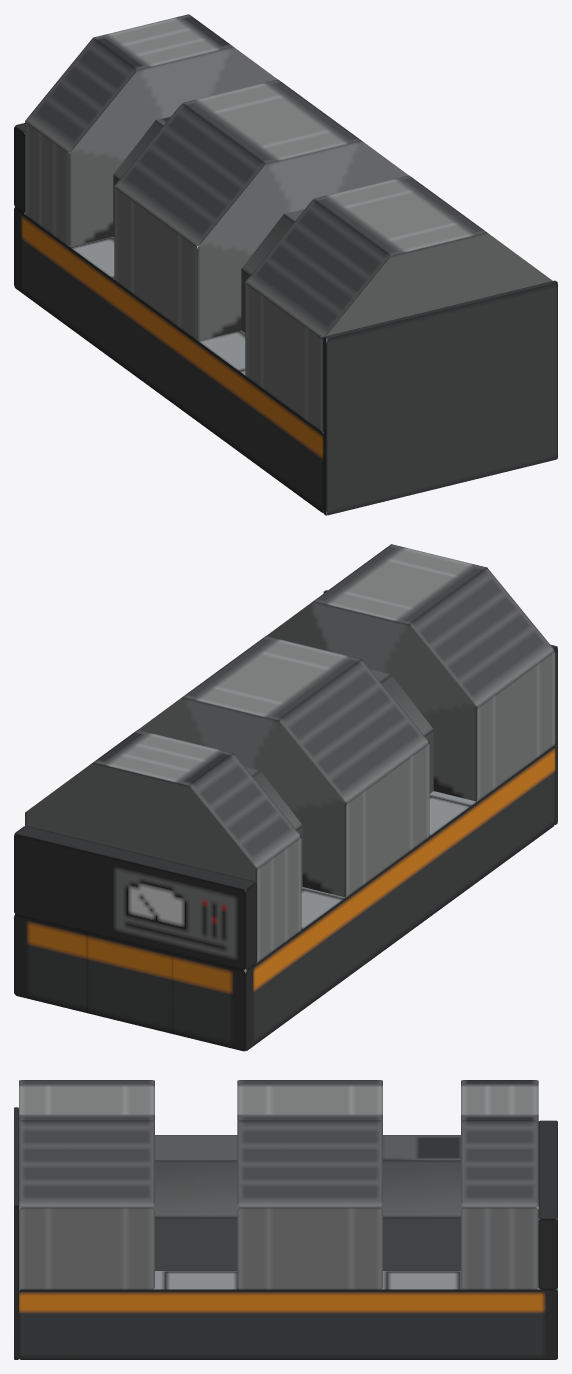
Rendered from turbine.obj.
3 renders of one model, top to bottom at view 1: azimuth 30°, elevation 25°; view 2: azimuth 150°, elevation 25°; view 3: azimuth 270°, elevation 25°, orthographic. The views are drawn at different scales.
Visible parts, largest first — view 1: 14, 8, 7, 3, 5, 9, 13, 6; view 2: 8, 7, 3, 5, 13, 1, 2, 9, 6; view 3: 2, 8, 7, 5, 9, 6, 13, 14.
Part boxes in pixels (bbox=[...]): 14: bbox=[323, 280, 557, 515]; 8: bbox=[114, 79, 408, 340]; 7: bbox=[245, 175, 552, 432]; 3: bbox=[14, 207, 326, 512]; 5: bbox=[25, 14, 277, 246]; 9: bbox=[241, 209, 392, 340]; 13: bbox=[14, 123, 24, 213]; 6: bbox=[113, 116, 266, 248]; 8: bbox=[138, 636, 429, 897]; 7: bbox=[266, 544, 555, 801]; 3: bbox=[168, 745, 555, 1051]; 5: bbox=[25, 730, 301, 971]; 13: bbox=[14, 826, 256, 970]; 1: bbox=[86, 933, 246, 1033]; 2: bbox=[14, 914, 90, 1013]; 9: bbox=[277, 669, 433, 805]; 6: bbox=[245, 767, 302, 887]; 2: bbox=[19, 1271, 557, 1359]; 8: bbox=[237, 1080, 382, 1289]; 7: bbox=[19, 1080, 154, 1290]; 5: bbox=[461, 1080, 538, 1289]; 9: bbox=[153, 1135, 239, 1270]; 6: bbox=[381, 1135, 462, 1270]; 13: bbox=[538, 1120, 557, 1289]; 14: bbox=[14, 1107, 18, 1359].
Size of the model in its own units: 3 by 2.98 by 7.
